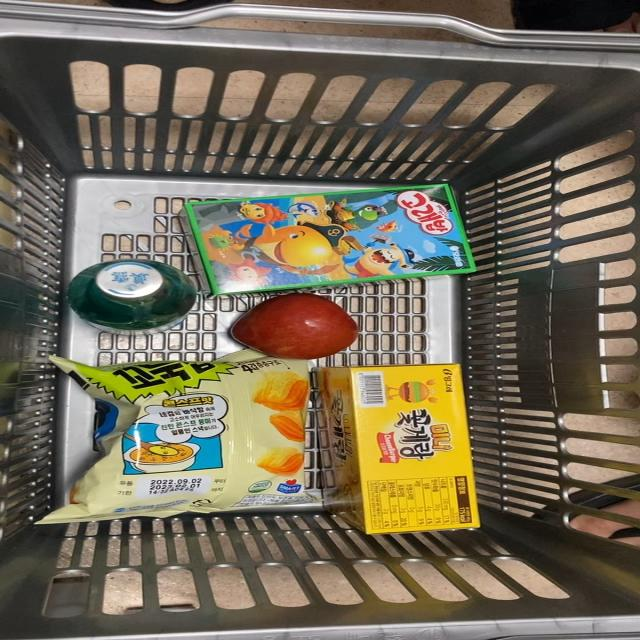ggobukchip: (45, 358, 322, 516)
goraebob: (190, 181, 480, 293)
jinro: (52, 259, 202, 329)
minicrab: (314, 356, 496, 534)
plum: (218, 292, 376, 359)
